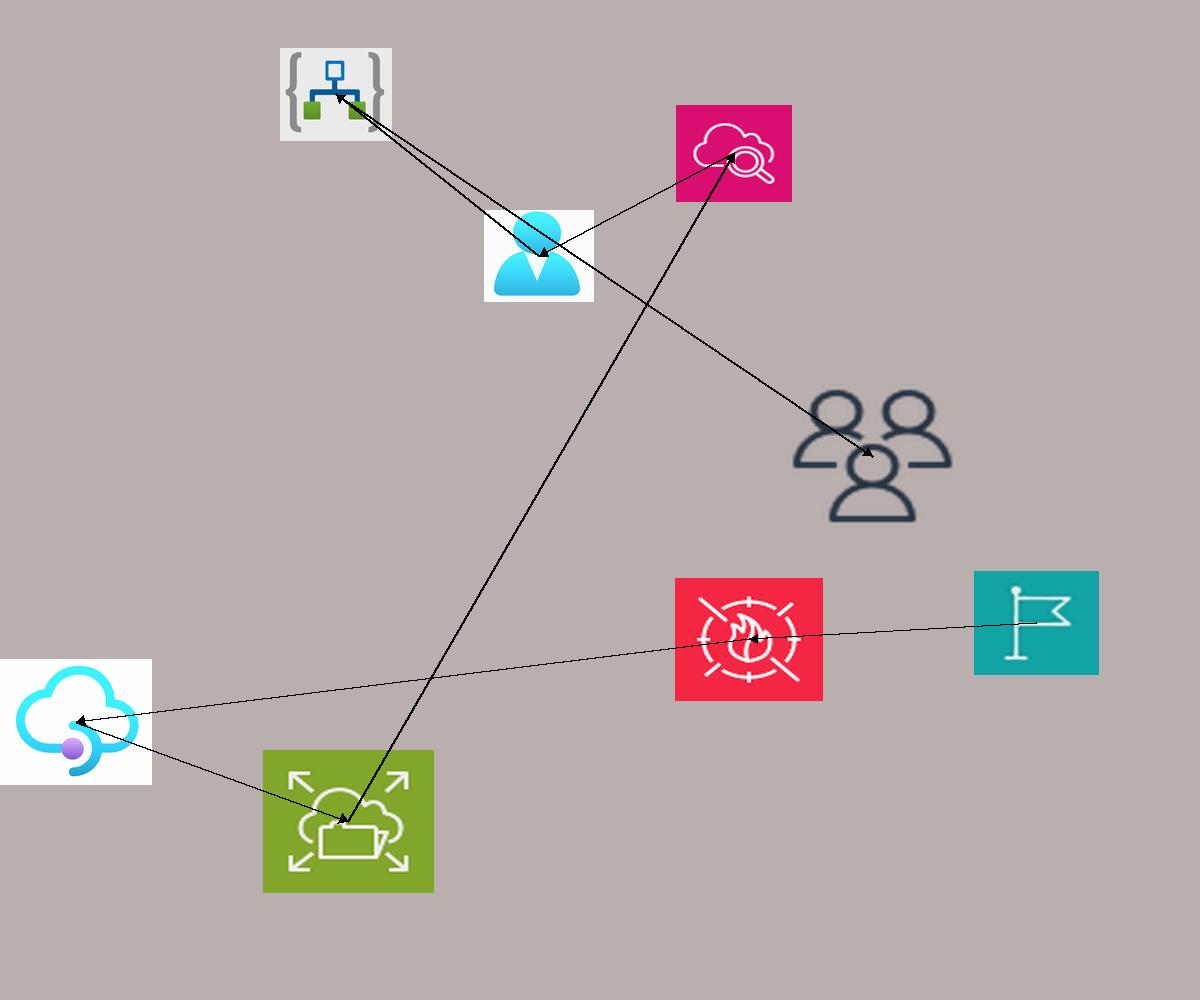AWS-CloudWatch: (676, 105, 792, 202)
AWS-EFS: (263, 750, 434, 893)
AWS-Region: (974, 571, 1099, 675)
AWS-Res_Users: (786, 384, 959, 528)
AWS-WAF: (675, 578, 823, 701)
Azure_api_gateway: (0, 659, 152, 785)
Azure_integration-204-Logic-Apps: (280, 48, 392, 141)
Azure_users: (484, 210, 594, 302)
